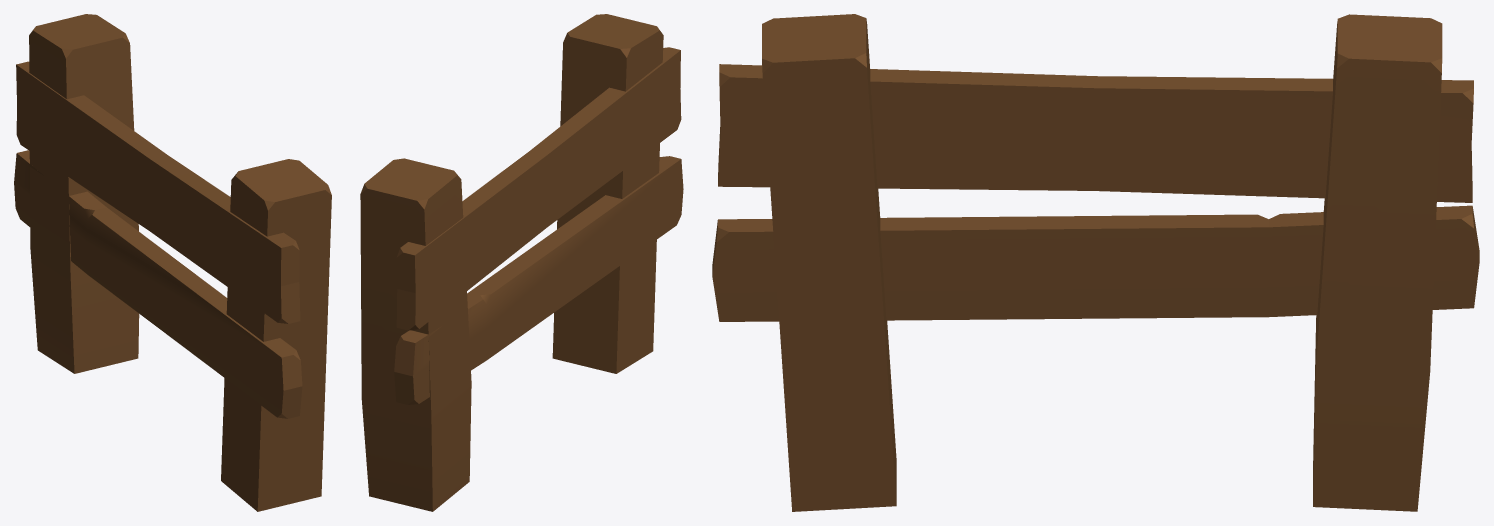
The model's file is env-wooden-fence-2.fbx.
3 views of the same model, side by side, from view 1: azimuth 30°, elevation 25°; view 2: azimuth 150°, elevation 25°; view 3: azimuth 270°, elevation 25° (orthographic). The views are drawn at different scales.
Parts seen in each view (by area): view 1: cit.007; view 2: cit.007; view 3: cit.007.
Boxes of the visible parts, left/top/right/bottom form: cit.007: left=14, top=14, right=331, bottom=511; cit.007: left=360, top=14, right=683, bottom=511; cit.007: left=712, top=14, right=1479, bottom=511.
Size of the model in its own units: 24.56 by 108 by 165.
